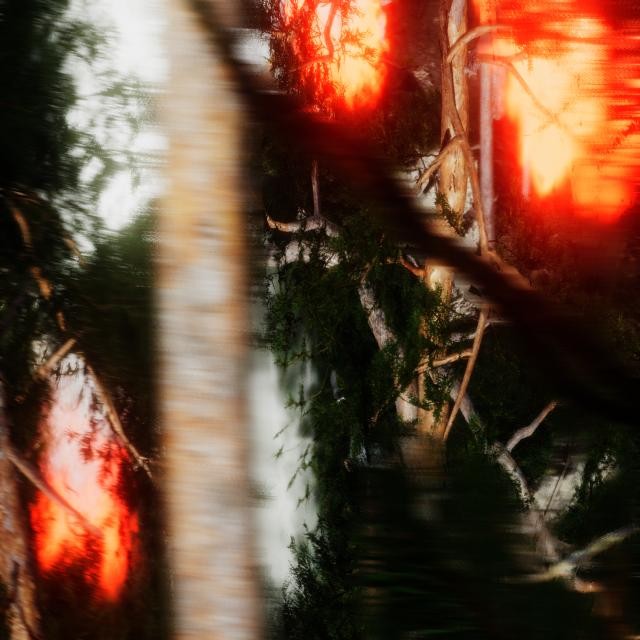Human: (328, 347, 349, 406)
